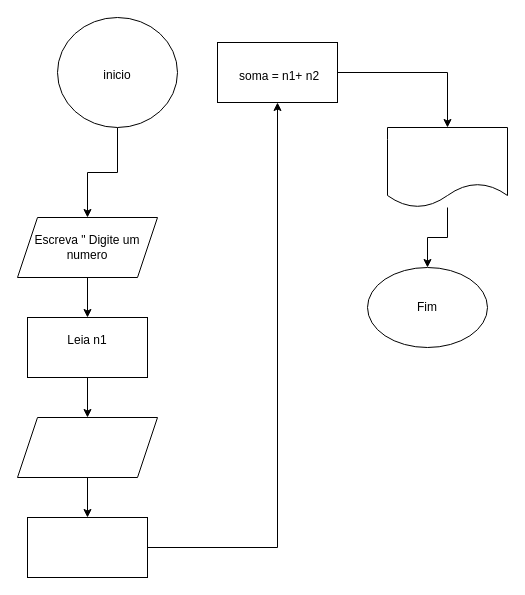
Some shapes in this 525 by 595 pixel diagram are drawn without their labels. The box of each missing label's shape, as (x1, y1, x2, y2) in pixels:
Escreva " Digite o segundo numero: (16, 416, 158, 478)
escreva " O resultado da soma é ", Soma: (386, 126, 508, 208)
leia n2: (26, 516, 148, 578)
